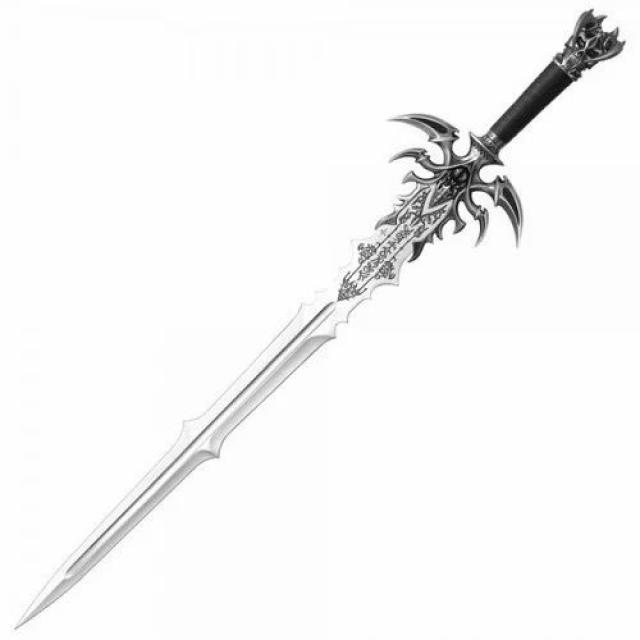Knife: (36, 8, 581, 611)
